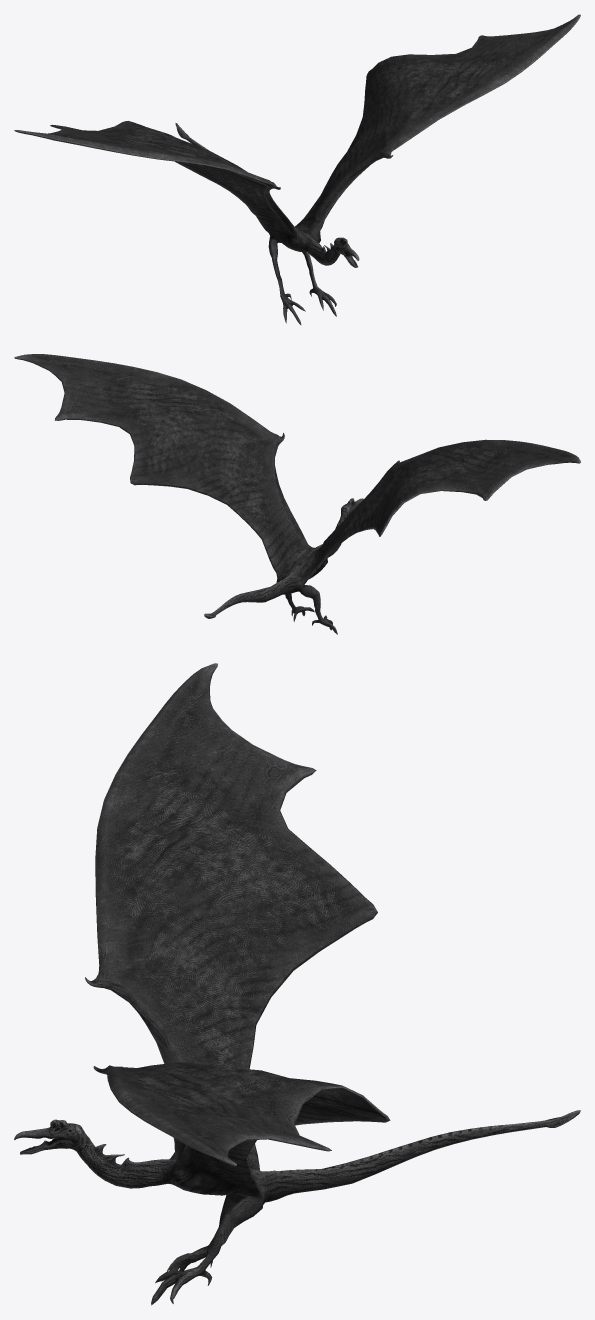
File: Fellbeast_Animate_Grab_Glide_15.obj
3 renders of one model, top to bottom at view 1: azimuth 30°, elevation 25°; view 2: azimuth 150°, elevation 25°; view 3: azimuth 270°, elevation 25°, orthographic. The views are drawn at different scales.
Visible parts, largest first — view 1: Fellbeast; view 2: Fellbeast; view 3: Fellbeast.
Boxes of the visible parts, x1=… form: Fellbeast: x1=14, y1=14, x2=580, y2=324; Fellbeast: x1=14, y1=354, x2=580, y2=634; Fellbeast: x1=14, y1=663, x2=580, y2=1305.
Size of the model in its own units: 8.15 by 3.4 by 4.28.
